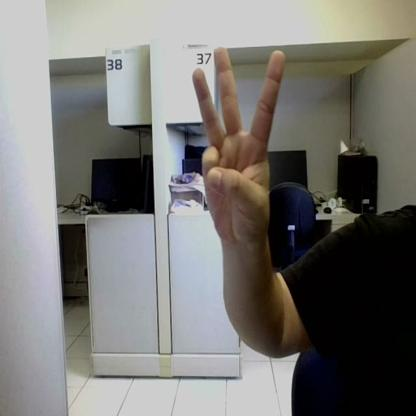W: (193, 48, 285, 241)
